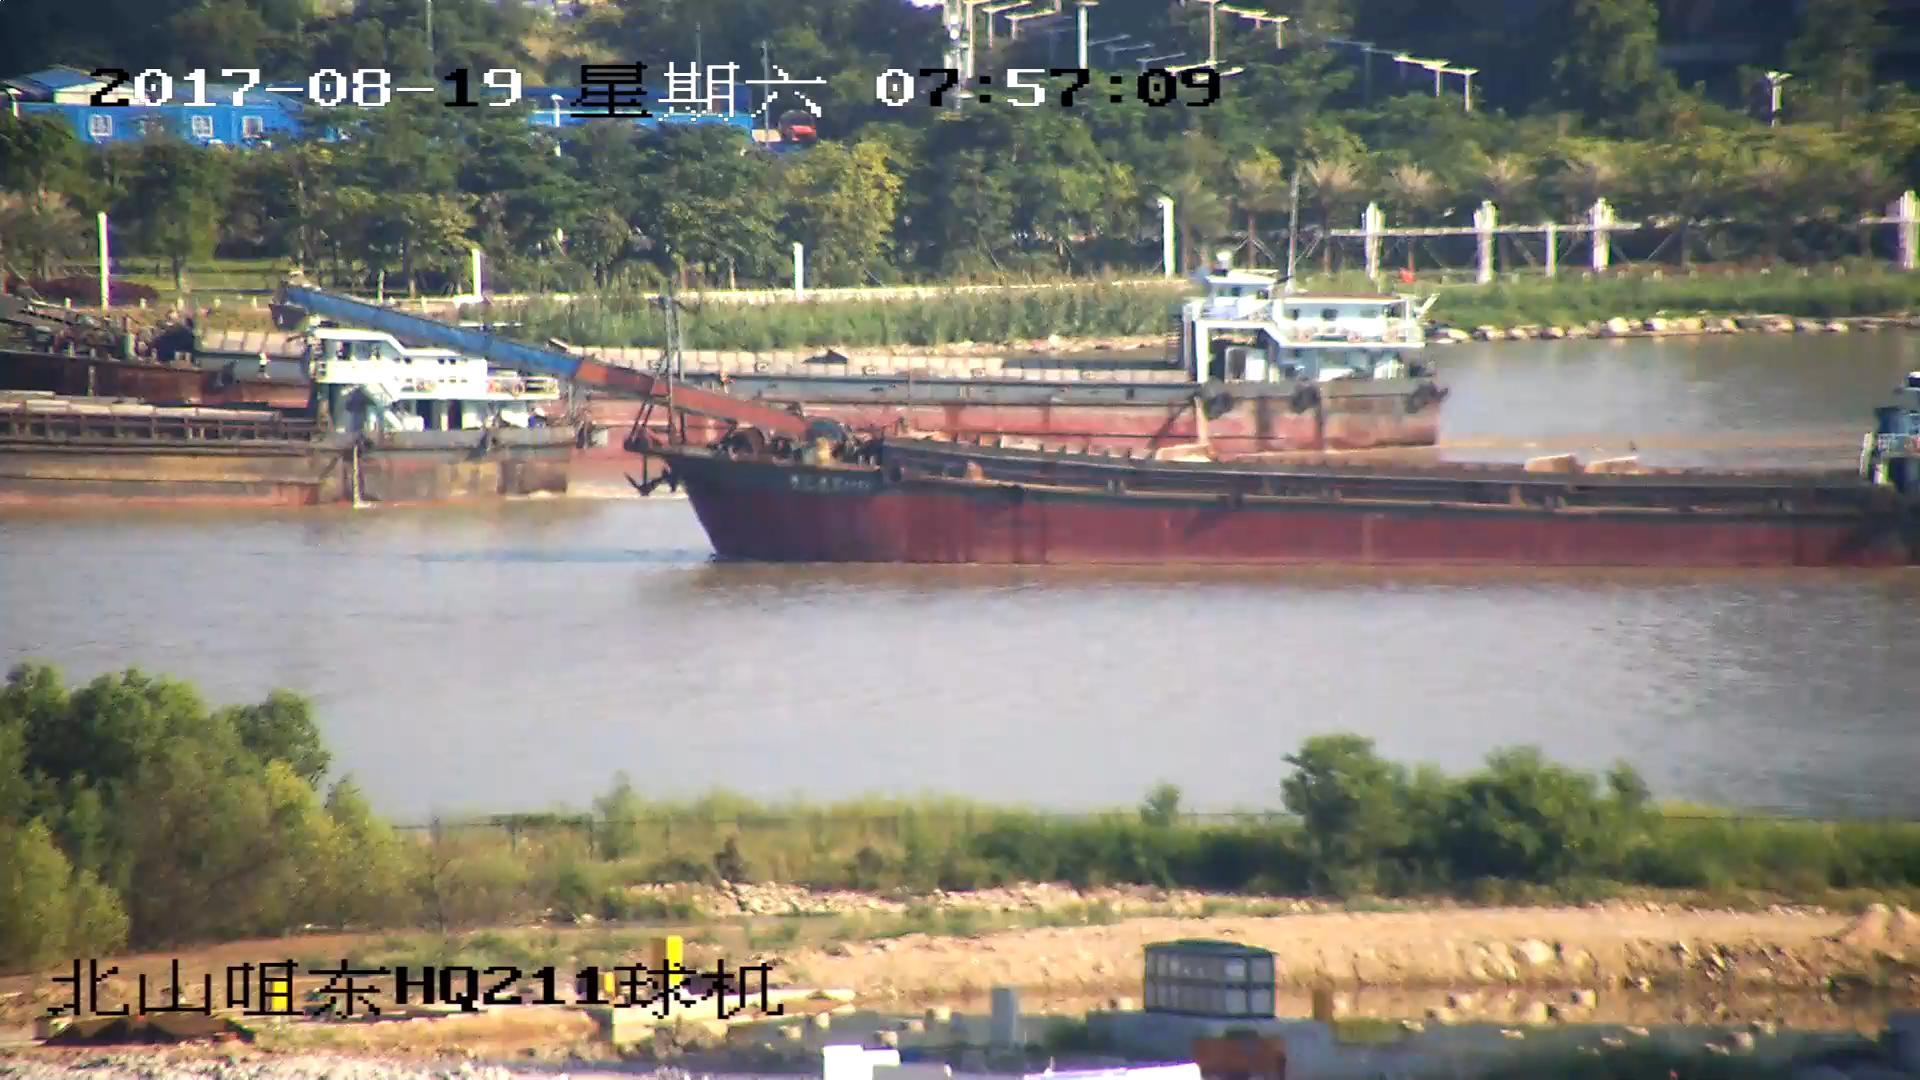Ship: (285, 284, 1920, 574), (128, 277, 1448, 446), (3, 375, 576, 517)
